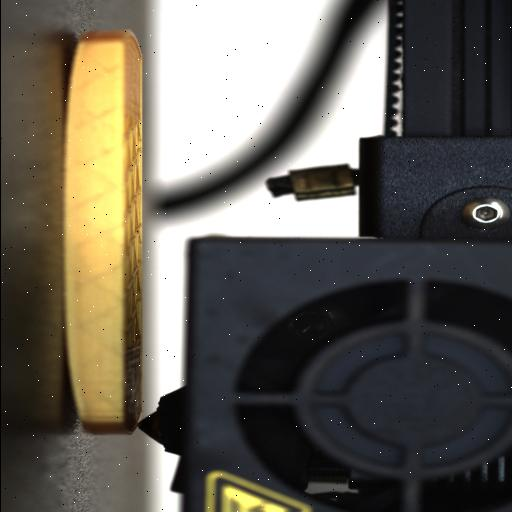warp: (62, 370, 108, 442)
